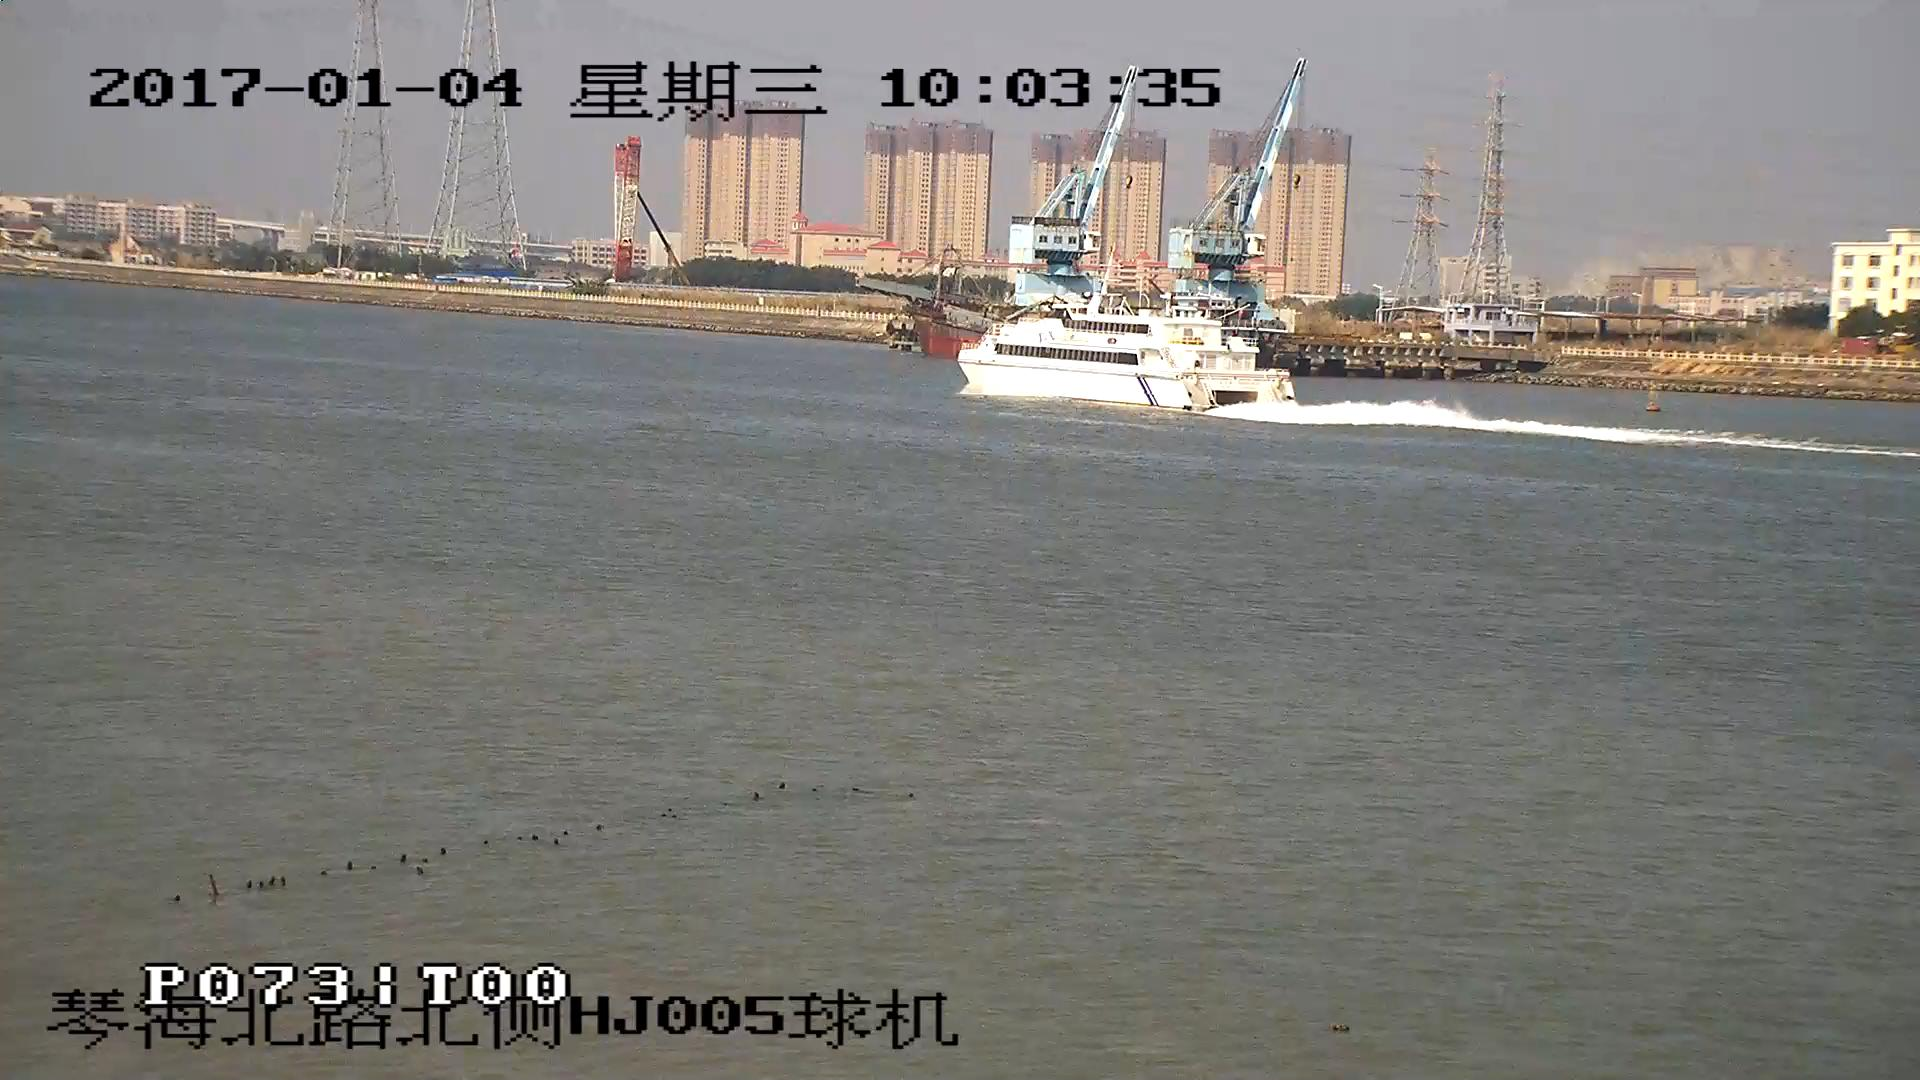passenger ship: (960, 252, 1298, 418)
